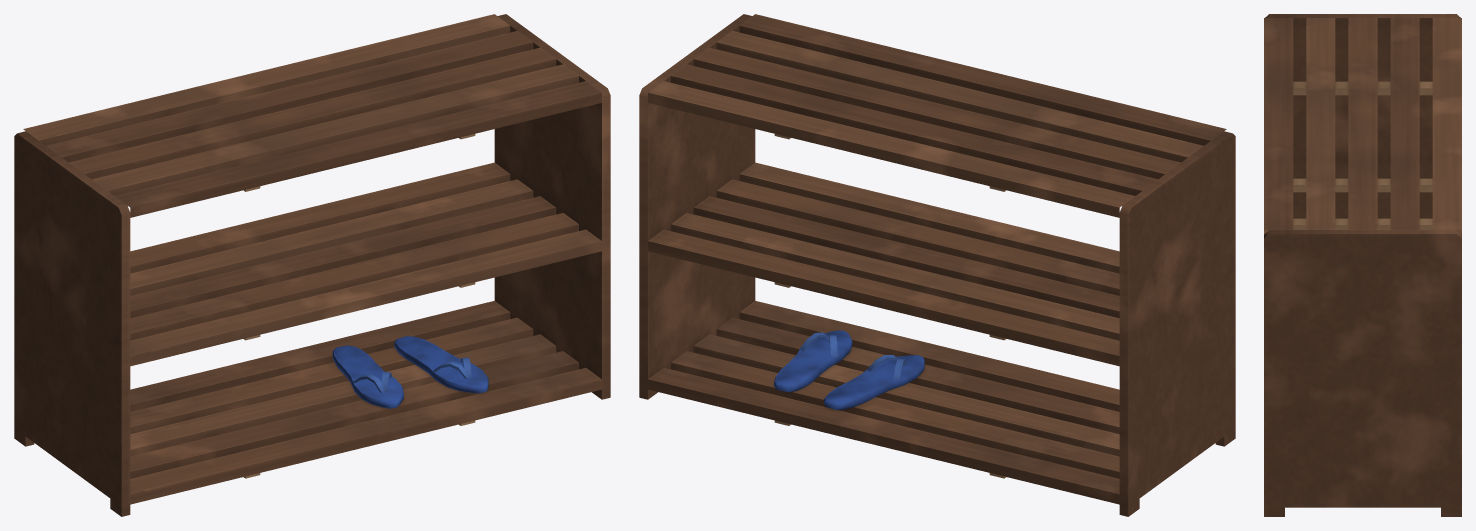
Rendered from shoe_rack.glb.
3 views of the same model, side by side, from view 1: azimuth 30°, elevation 25°; view 2: azimuth 150°, elevation 25°; view 3: azimuth 270°, elevation 25° (orthographic). The views are drawn at different scales.
Visible parts, largest first — view 1: ShoeRack; view 2: ShoeRack; view 3: ShoeRack.
Boxes of the visible parts, x1,y1,x2,y2 form: ShoeRack: [14, 14, 610, 516]; ShoeRack: [639, 14, 1235, 516]; ShoeRack: [1264, 14, 1461, 516].
Size of the model in its own units: 1 by 0.6 by 0.38.
Materials: 1 (1 with a texture image).
